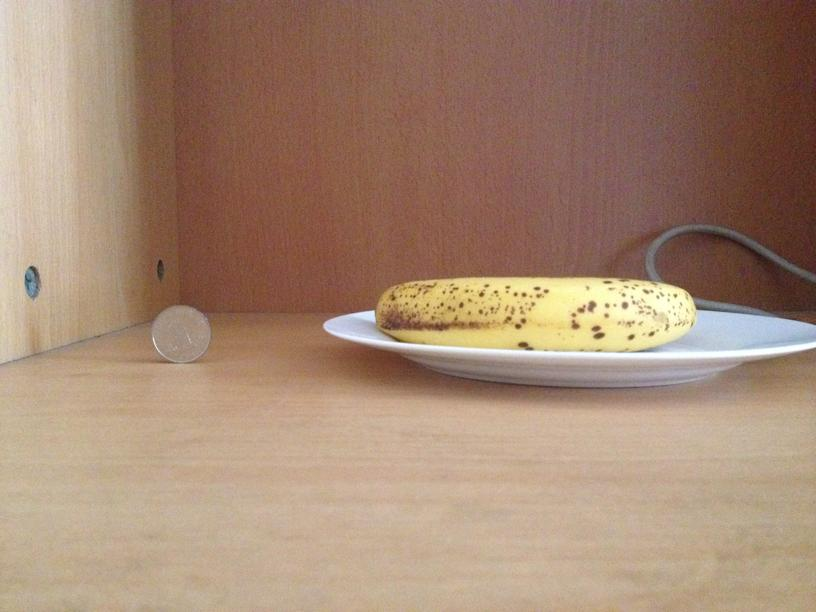banana: (373, 275, 696, 350)
coin: (148, 304, 211, 364)
